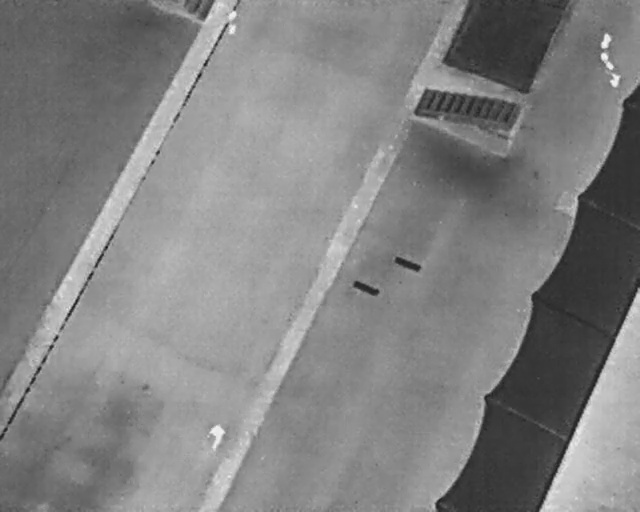Person: (210, 422, 225, 452), (227, 9, 237, 35)
